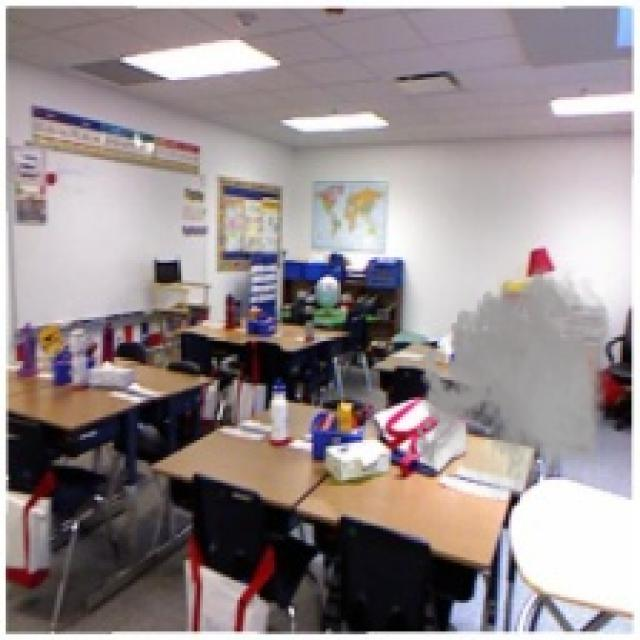smoke: (409, 257, 620, 509)
